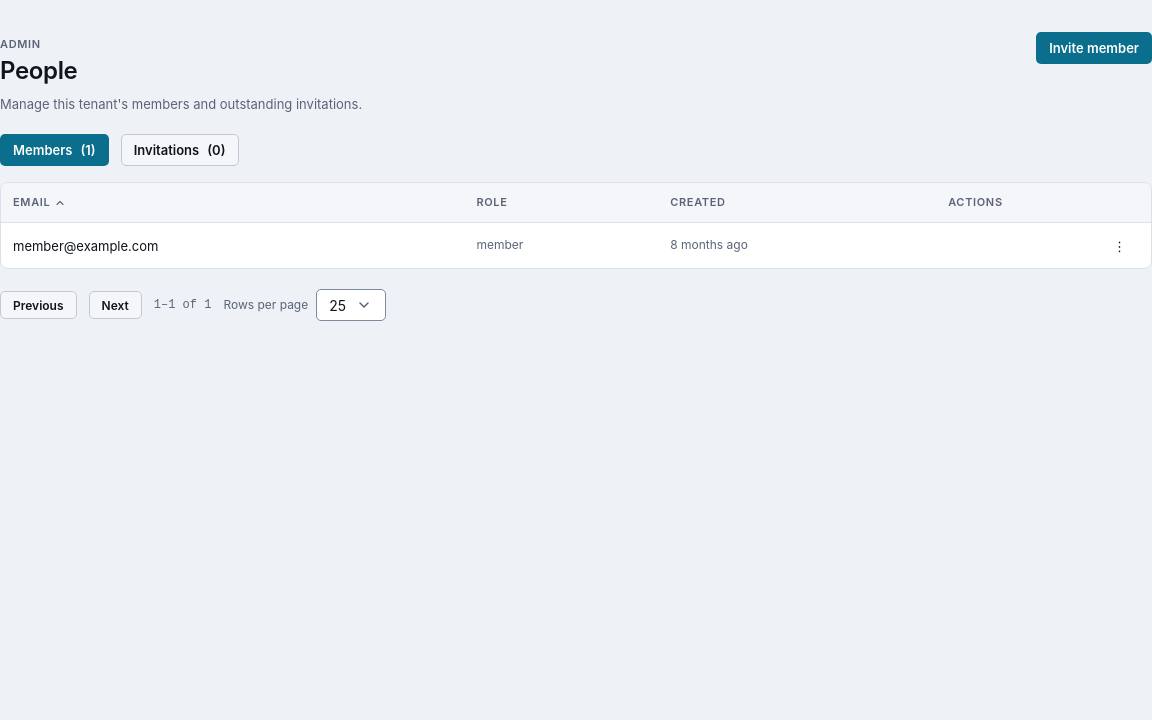
Scenario: PeoplePage › changes a member to admin via the kebab menu and updates the row in place
Check: the text "member@example.com" is shown, box x1=1 y1=223 x2=464 y2=268
What coordinates should you click on to do the following:
click the button named "Actions for member@example.com"
I would click on:
 (1120, 246)
Its box is x1=1100 y1=232 x2=1139 y2=260.
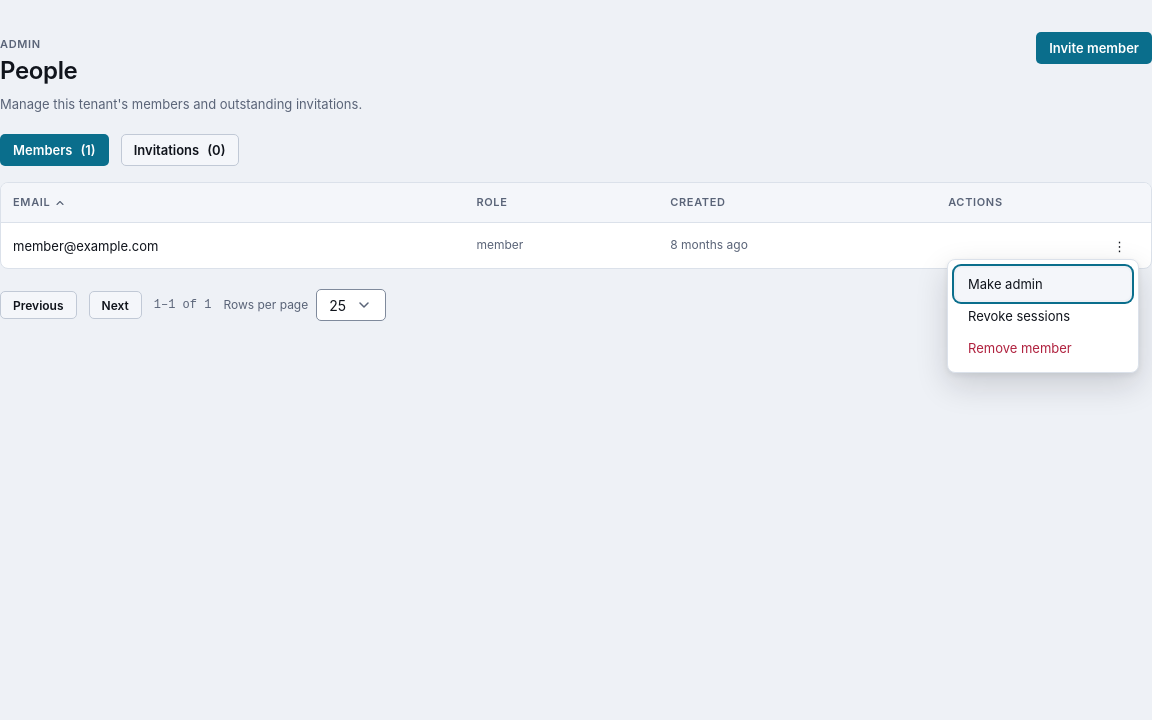
What coordinates should you click on to do the following:
click the menu item "Make admin"
I would click on:
 (1043, 284)
Its box is x1=956 y1=268 x2=1130 y2=300.
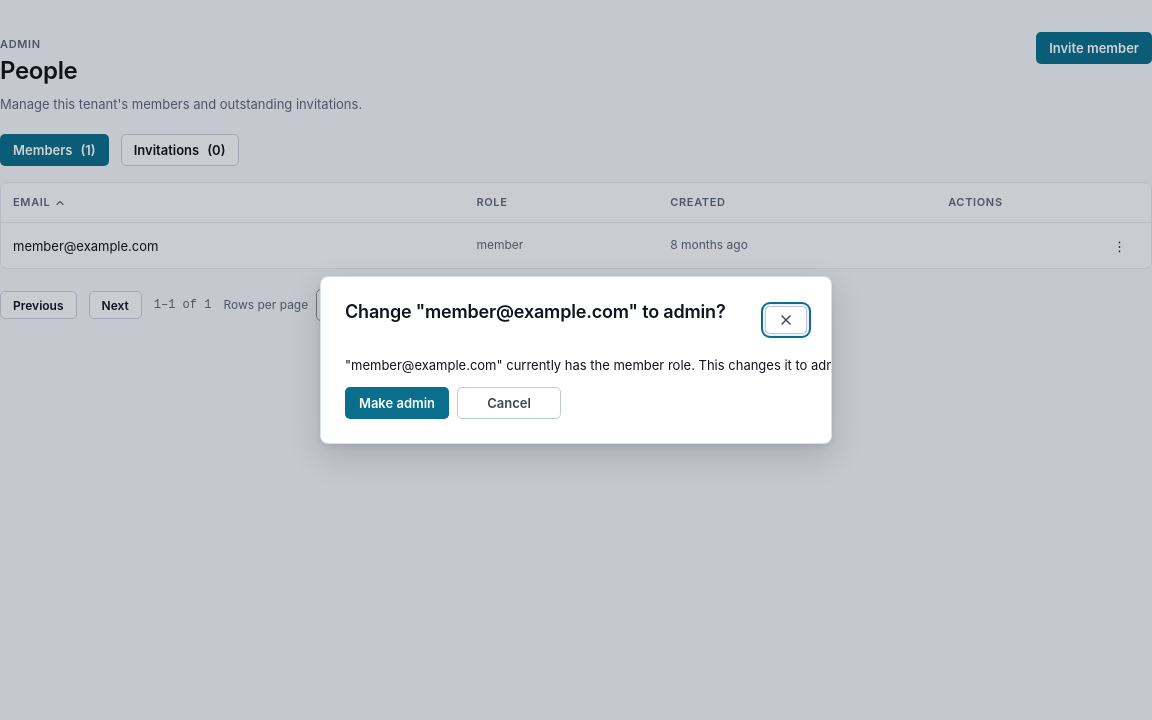
What coordinates should you click on to do the following:
click the button "Make admin"
I would click on:
 (397, 403)
Its box is x1=345 y1=387 x2=449 y2=419.
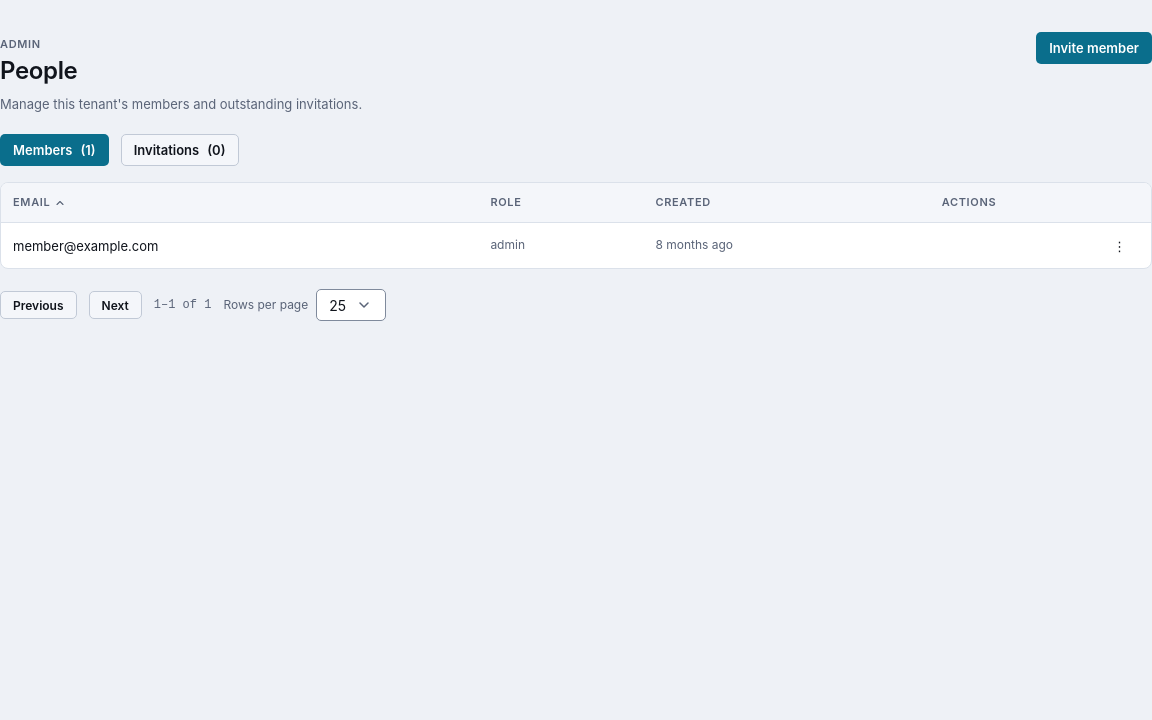
Check: the dialog is gone
What coordinates should you click on to do the following:
click the button named "Actions for member@example.com"
I would click on:
 (1120, 246)
Its box is x1=1100 y1=232 x2=1139 y2=260.
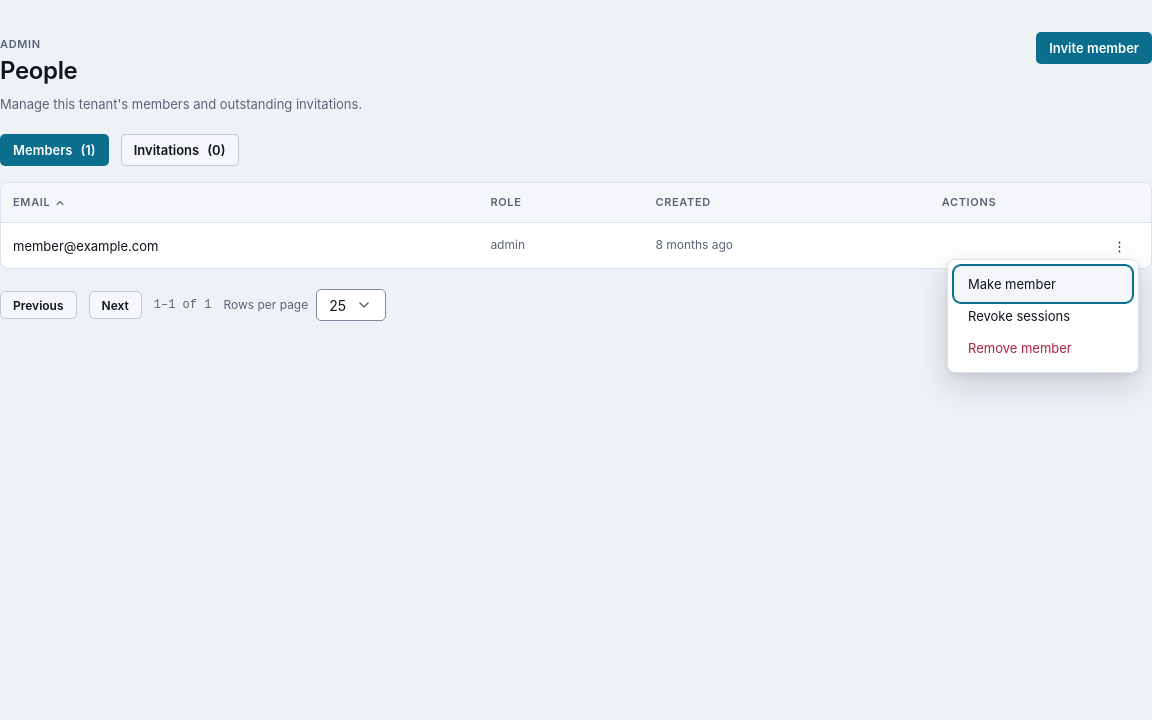
Check: the menu item "Make member" is shown, box x1=956 y1=268 x2=1130 y2=300
